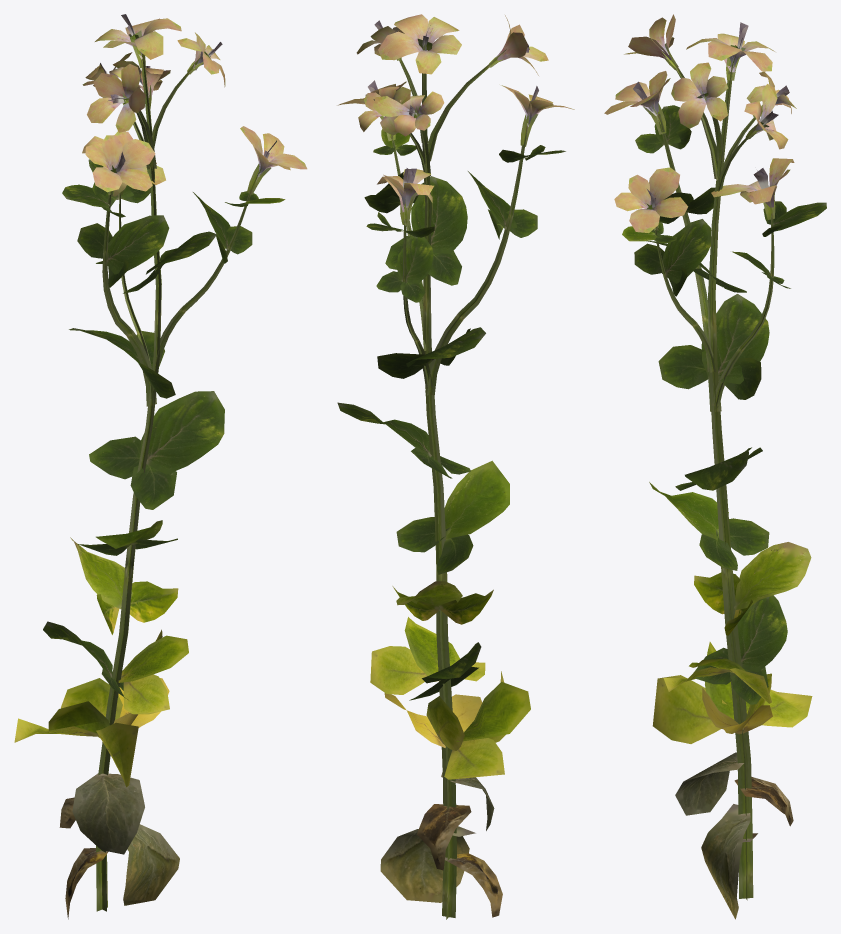
File: Periwinkle_bush_normal_yellowgreen.glb
3 views of the same model, side by side, from view 1: azimuth 30°, elevation 25°; view 2: azimuth 150°, elevation 25°; view 3: azimuth 270°, elevation 25° (orthographic).
Visible parts, largest first — view 1: _b868_Var1_LOD1; view 2: _b868_Var1_LOD1; view 3: _b868_Var1_LOD1.
Boxes of the visible parts, box(x1,y1,x2,y2) form: _b868_Var1_LOD1: box(14, 14, 307, 919); _b868_Var1_LOD1: box(337, 14, 574, 919); _b868_Var1_LOD1: box(604, 14, 826, 919).
Size of the model in its own units: 0.7589 by 2.81 by 0.6398.
1 material, 1 textured.
